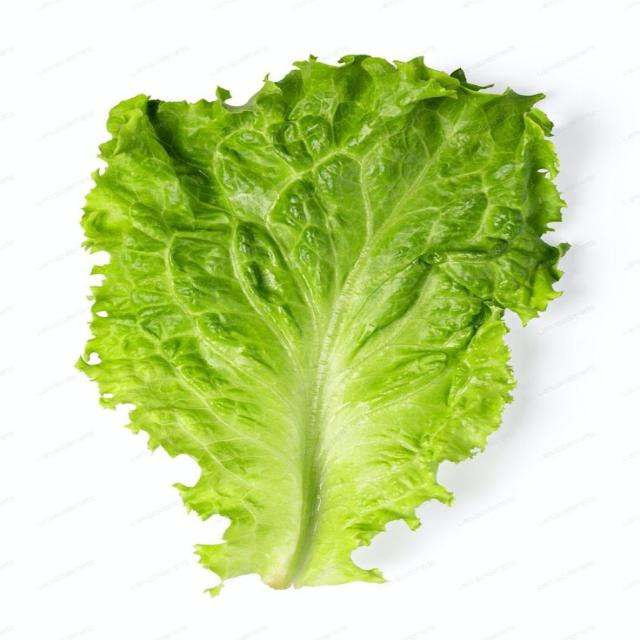lettuce: (80, 56, 564, 587)
